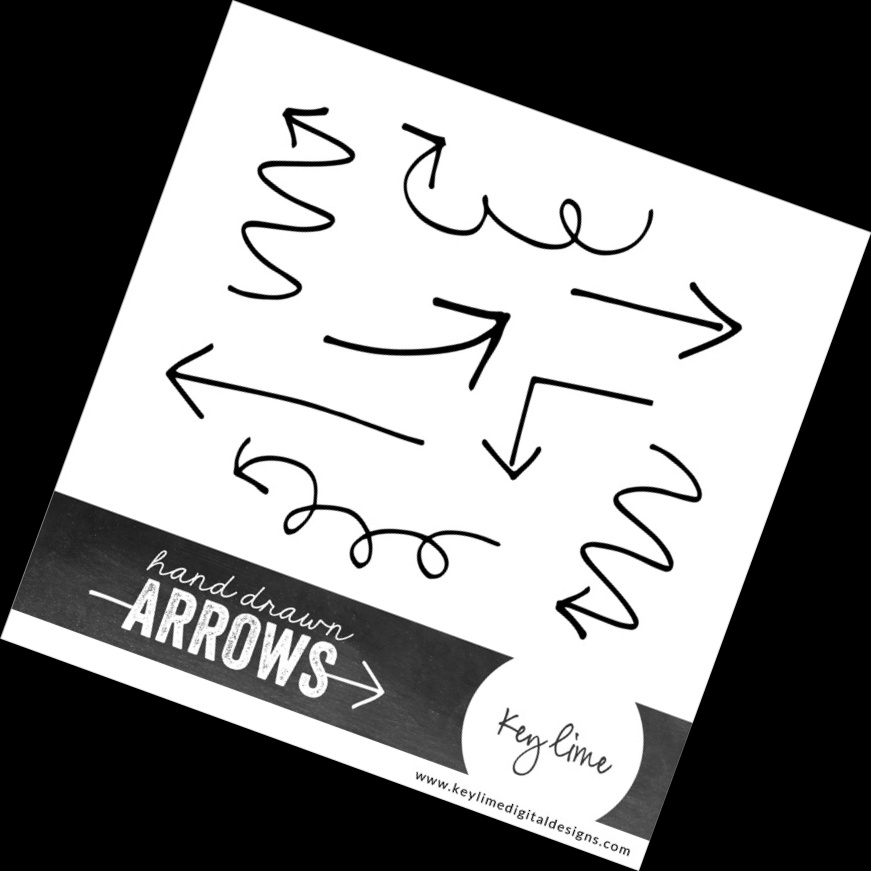arrow: (386, 291, 513, 398), (634, 275, 749, 374), (152, 338, 275, 427), (387, 116, 448, 233), (474, 401, 551, 487), (227, 428, 302, 499), (267, 101, 348, 153), (551, 588, 621, 640)
